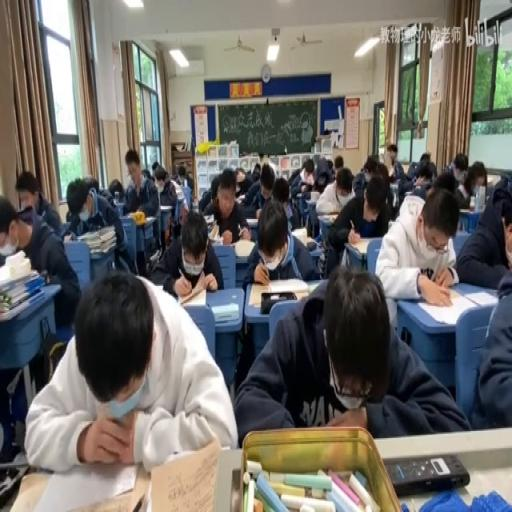calculator: (25, 455, 138, 511), (146, 436, 222, 510), (414, 286, 486, 327), (0, 266, 40, 294), (210, 301, 238, 323), (178, 286, 206, 306), (348, 236, 374, 256), (233, 238, 257, 258), (126, 209, 154, 225), (290, 224, 308, 248), (112, 196, 125, 214), (308, 244, 324, 258), (208, 222, 219, 240), (306, 278, 320, 292), (148, 248, 160, 263), (320, 213, 339, 222), (414, 176, 428, 188), (202, 213, 214, 225), (174, 186, 184, 200), (246, 215, 258, 226), (304, 195, 317, 205), (159, 203, 173, 212), (62, 233, 72, 243), (460, 205, 474, 212), (235, 193, 245, 202), (389, 182, 398, 192), (299, 190, 309, 198), (404, 191, 413, 196)
paper: (26, 266, 236, 471), (234, 266, 464, 442), (1, 186, 80, 333), (242, 198, 320, 293), (63, 174, 130, 282), (322, 169, 388, 273), (454, 176, 512, 294), (469, 276, 511, 432), (154, 206, 222, 297), (123, 148, 162, 267), (200, 168, 252, 244), (242, 161, 277, 219), (290, 154, 322, 214), (390, 155, 422, 205), (40, 196, 62, 235), (432, 168, 456, 196), (270, 176, 290, 206), (450, 152, 468, 185), (95, 175, 115, 202), (465, 168, 483, 196), (493, 175, 512, 199), (209, 174, 221, 204), (363, 152, 379, 174), (376, 162, 390, 186), (352, 170, 366, 194), (454, 184, 468, 206), (424, 161, 438, 182), (334, 154, 344, 176), (325, 156, 334, 180), (302, 161, 314, 176), (177, 166, 186, 185), (419, 151, 431, 165), (251, 160, 260, 178), (151, 161, 160, 176), (408, 162, 418, 175), (186, 172, 192, 192), (235, 174, 245, 186), (180, 204, 186, 224), (386, 144, 396, 155), (141, 168, 150, 180), (241, 151, 249, 158), (258, 152, 264, 161)
person: (386, 452, 470, 494), (0, 461, 30, 505), (260, 292, 296, 314)
